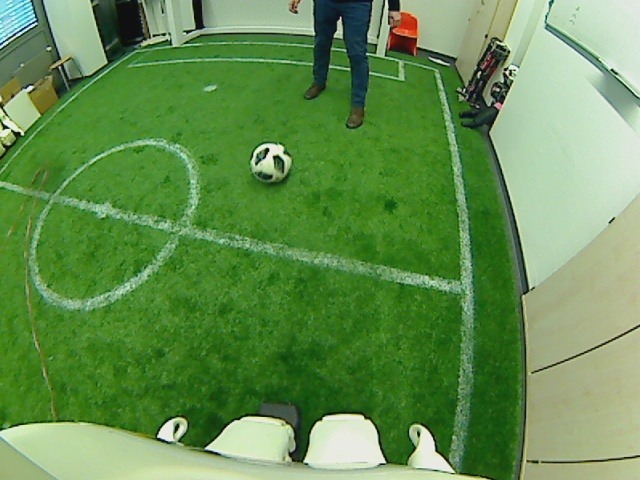ball: (249, 140, 292, 183)
